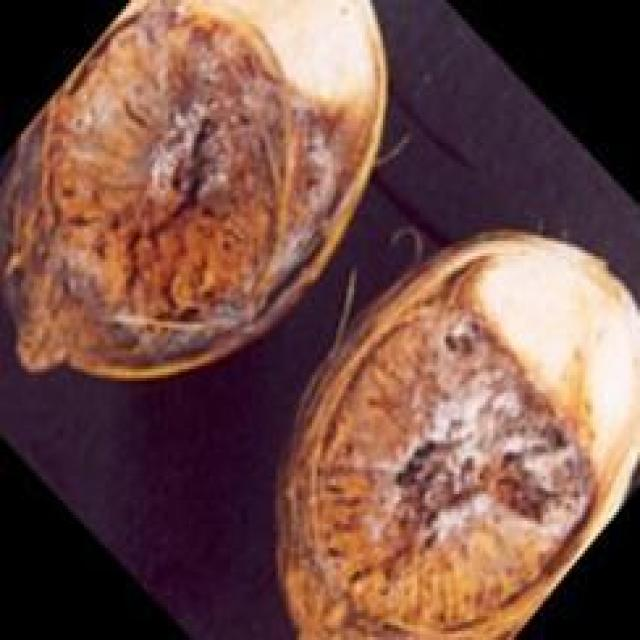damaged: (273, 229, 637, 637), (0, 0, 386, 384)
